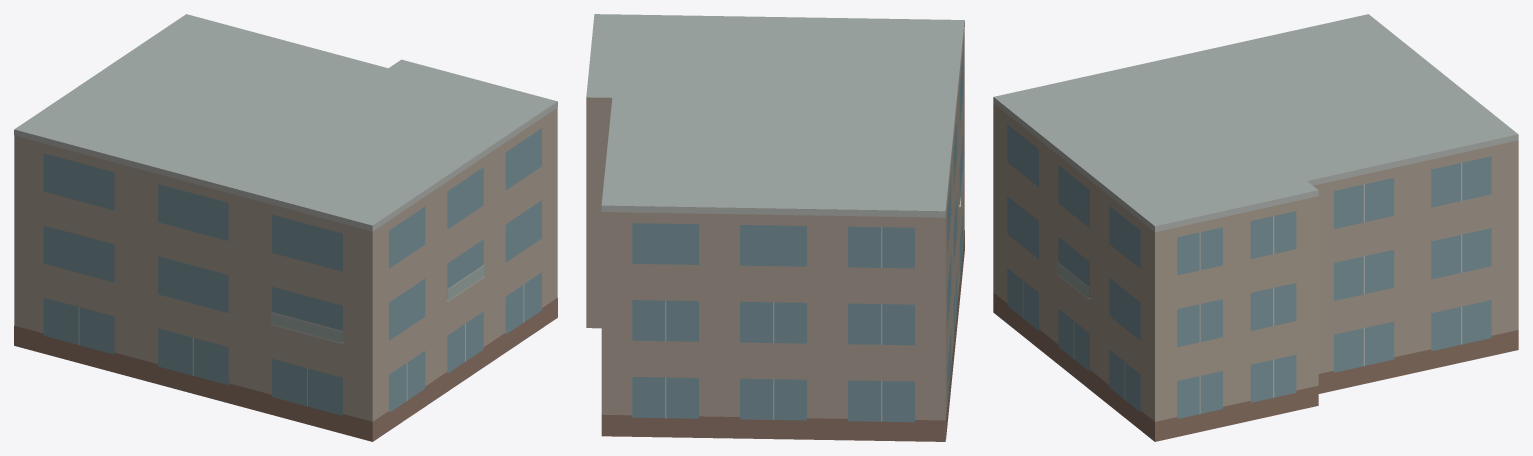
File: survey-upis-32832776.glb
The picture shows the model from 3 angles, left to right: view 1: azimuth 30°, elevation 25°; view 2: azimuth 150°, elevation 25°; view 3: azimuth 270°, elevation 25°; orthographic projection. The views are drawn at different scales.
Parts seen in each view (by area): view 1: survey-upis-32832776.tmp; view 2: survey-upis-32832776.tmp; view 3: survey-upis-32832776.tmp.
Part boxes in pixels (x1,y1,x2,y2): survey-upis-32832776.tmp: (14, 14, 557, 441); survey-upis-32832776.tmp: (586, 14, 964, 441); survey-upis-32832776.tmp: (993, 14, 1518, 441).
Size of the model in its own units: 18.6 by 8.8 by 19.44.
